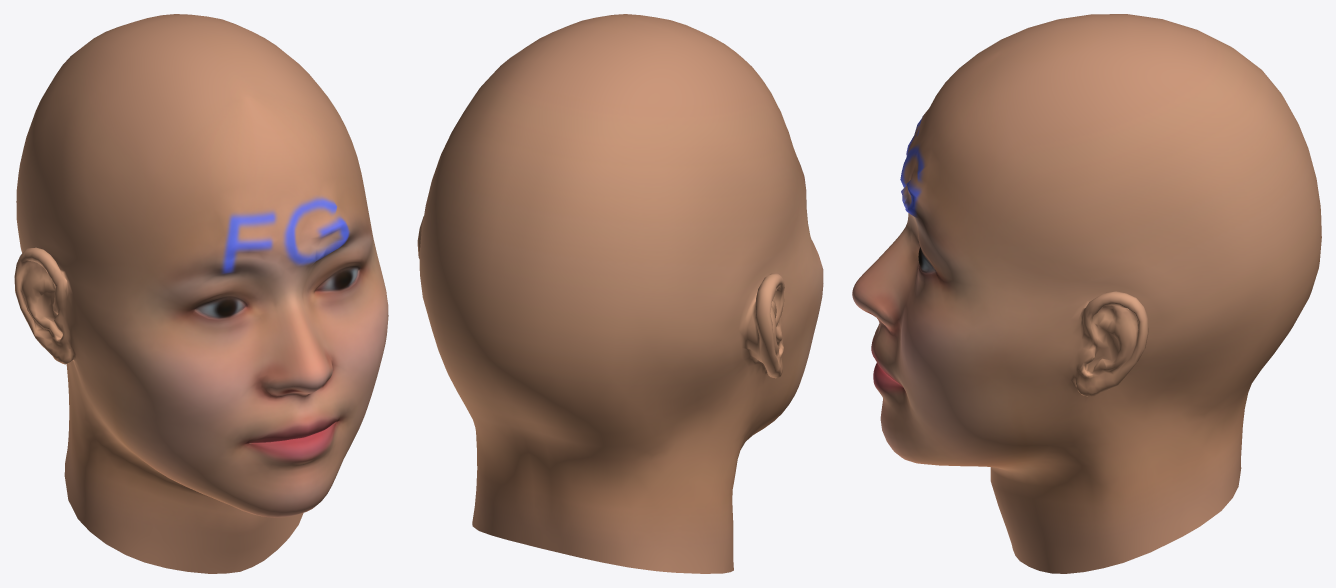
Rendered from avg_eastasian_female.obj.
3 views of the same model, side by side, from view 1: azimuth 30°, elevation 25°; view 2: azimuth 150°, elevation 25°; view 3: azimuth 270°, elevation 25° (orthographic). The views are drawn at different scales.
Parts seen in each view (by area): view 1: HeadHires; view 2: HeadHires; view 3: HeadHires.
Boxes of the visible parts, x1=… form: HeadHires: x1=14, y1=14, x2=388, y2=573; HeadHires: x1=417, y1=14, x2=823, y2=573; HeadHires: x1=852, y1=14, x2=1321, y2=573.
Size of the model in its own units: 192 by 283 by 232.
3 materials, 3 textured.
